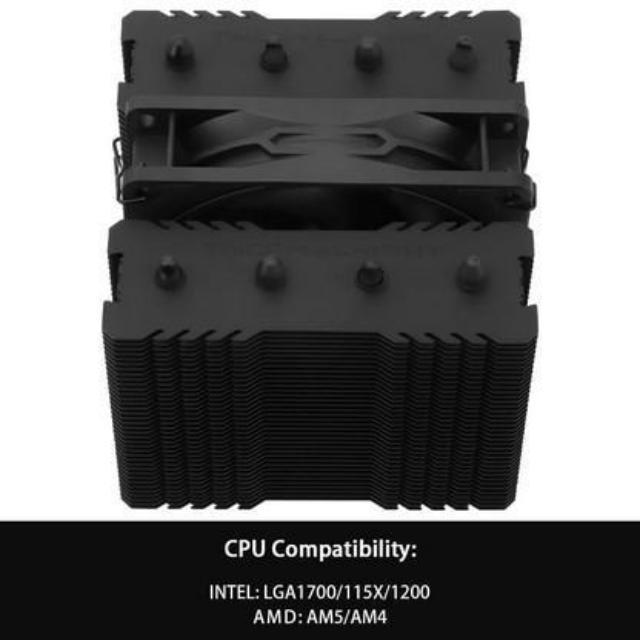CPU_Fan: (104, 0, 538, 514)
